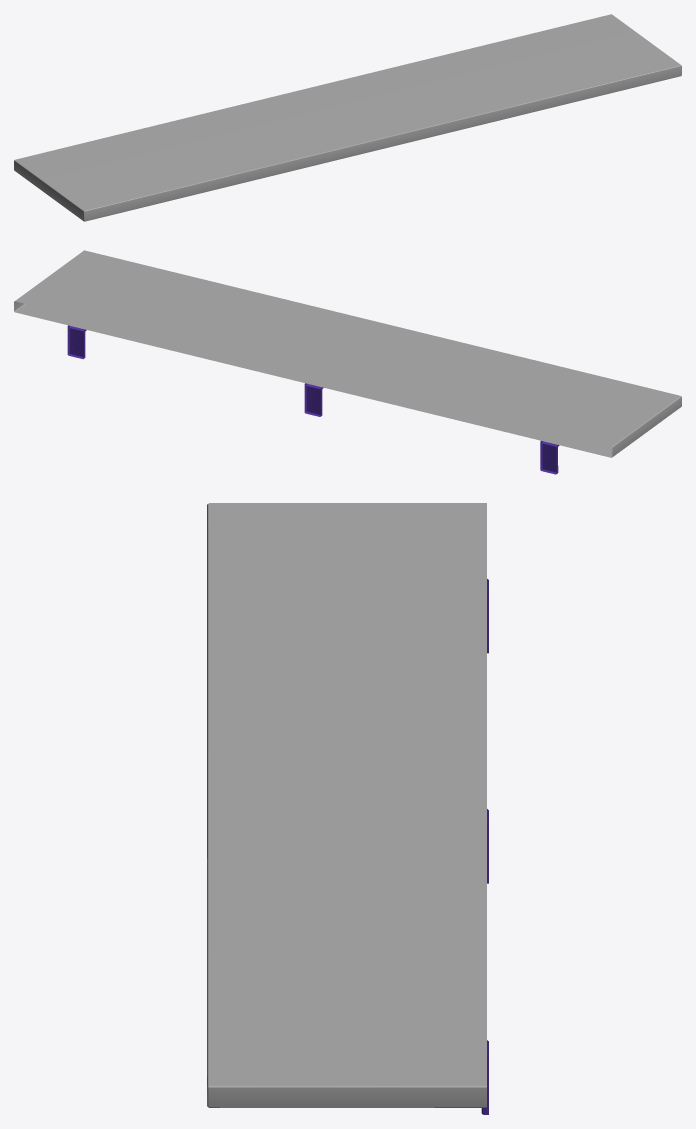
File: shelve.fbx
The picture shows the model from 3 angles, top to bottom: view 1: azimuth 30°, elevation 25°; view 2: azimuth 150°, elevation 25°; view 3: azimuth 270°, elevation 25°; orthographic projection. The views are drawn at different scales.
Parts seen in each view (by area): view 1: shelve; view 2: shelve; view 3: shelve.
Part boxes in pixels (x1,y1,x2,y2): shelve: (14, 14, 681, 221); shelve: (14, 250, 681, 474); shelve: (207, 503, 488, 1114).
Size of the model in its own units: 4.91 by 0.3208 by 1.
